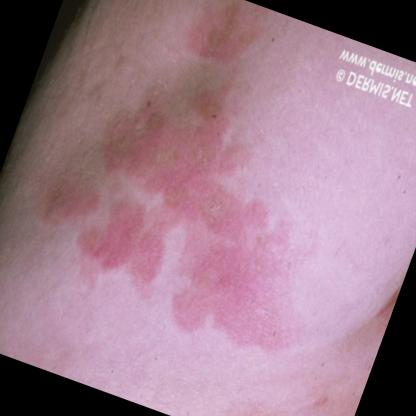Psoriasis: (57, 48, 383, 378), (64, 184, 184, 303), (168, 0, 270, 83), (24, 160, 105, 253)
